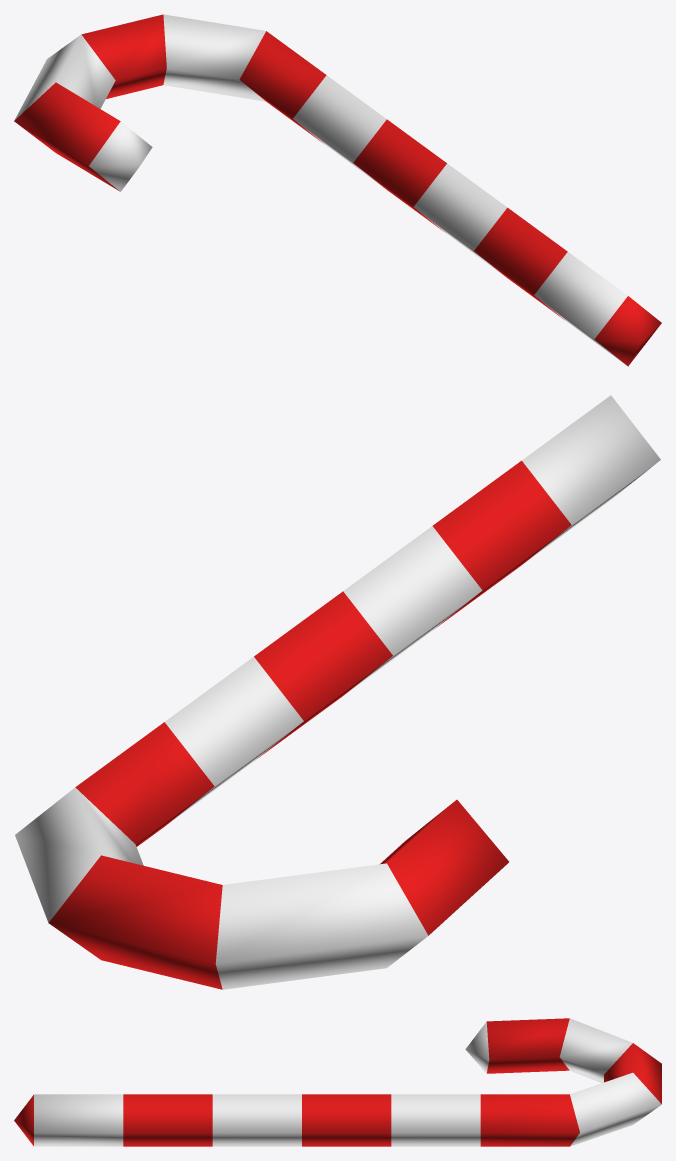
File: Candy_A.fbx
3 views of the same model, one above another, from view 1: azimuth 30°, elevation 25°; view 2: azimuth 150°, elevation 25°; view 3: azimuth 270°, elevation 25° (orthographic). The views are drawn at different scales.
Parts seen in each view (by area): view 1: Candy_A; view 2: Candy_A; view 3: Candy_A.
Part boxes in pixels (x1,y1,x2,y2): Candy_A: (14, 14, 661, 366); Candy_A: (15, 395, 660, 989); Candy_A: (14, 1018, 661, 1146).
Size of the model in its own units: 2.52 by 0.6106 by 6.84.
